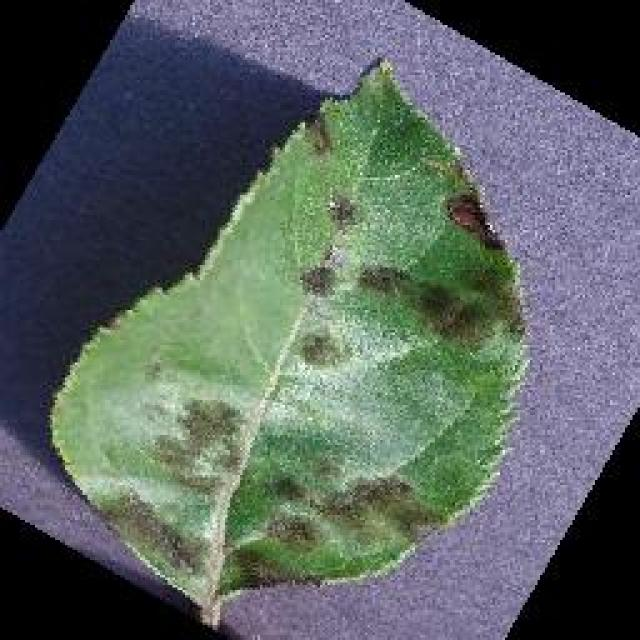apple scab disease: (45, 55, 533, 630)
